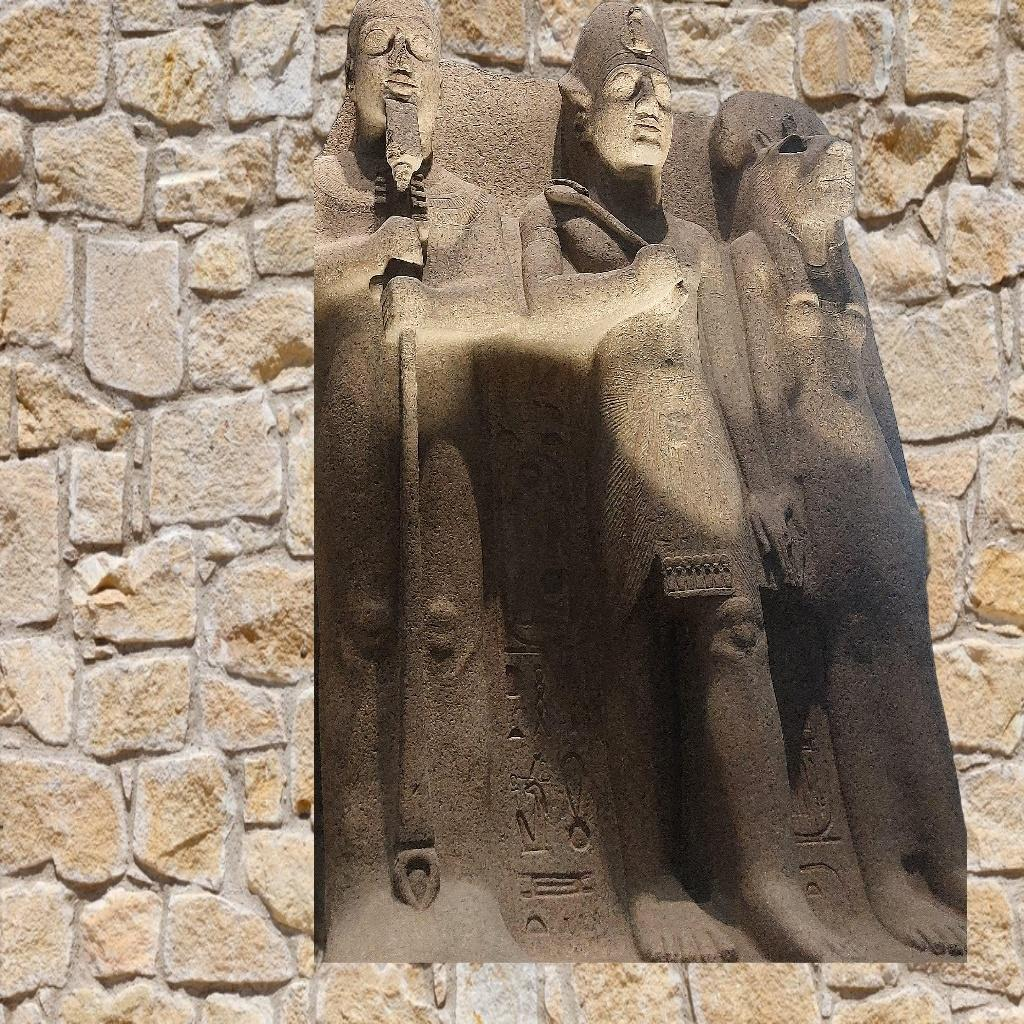Statue of God Ptah Ramesses ll Goddess Sekhmet: (314, 0, 966, 963)
